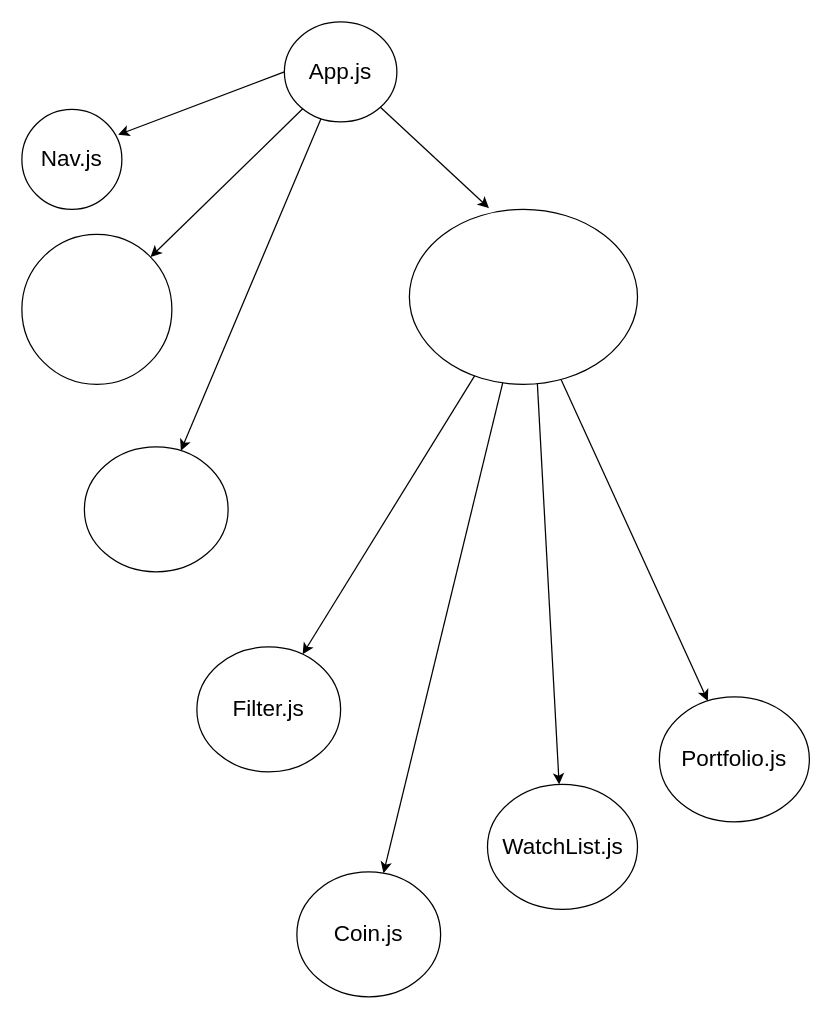
The diagram is 831 pixels wide and 1019 high, and some of its shapes have lost their labels. Each missing label, with the centre of its shape:
Footer.js: the point at 155,509
Header.js: the point at 96,308
TrackerContainer.js: the point at 523,296
